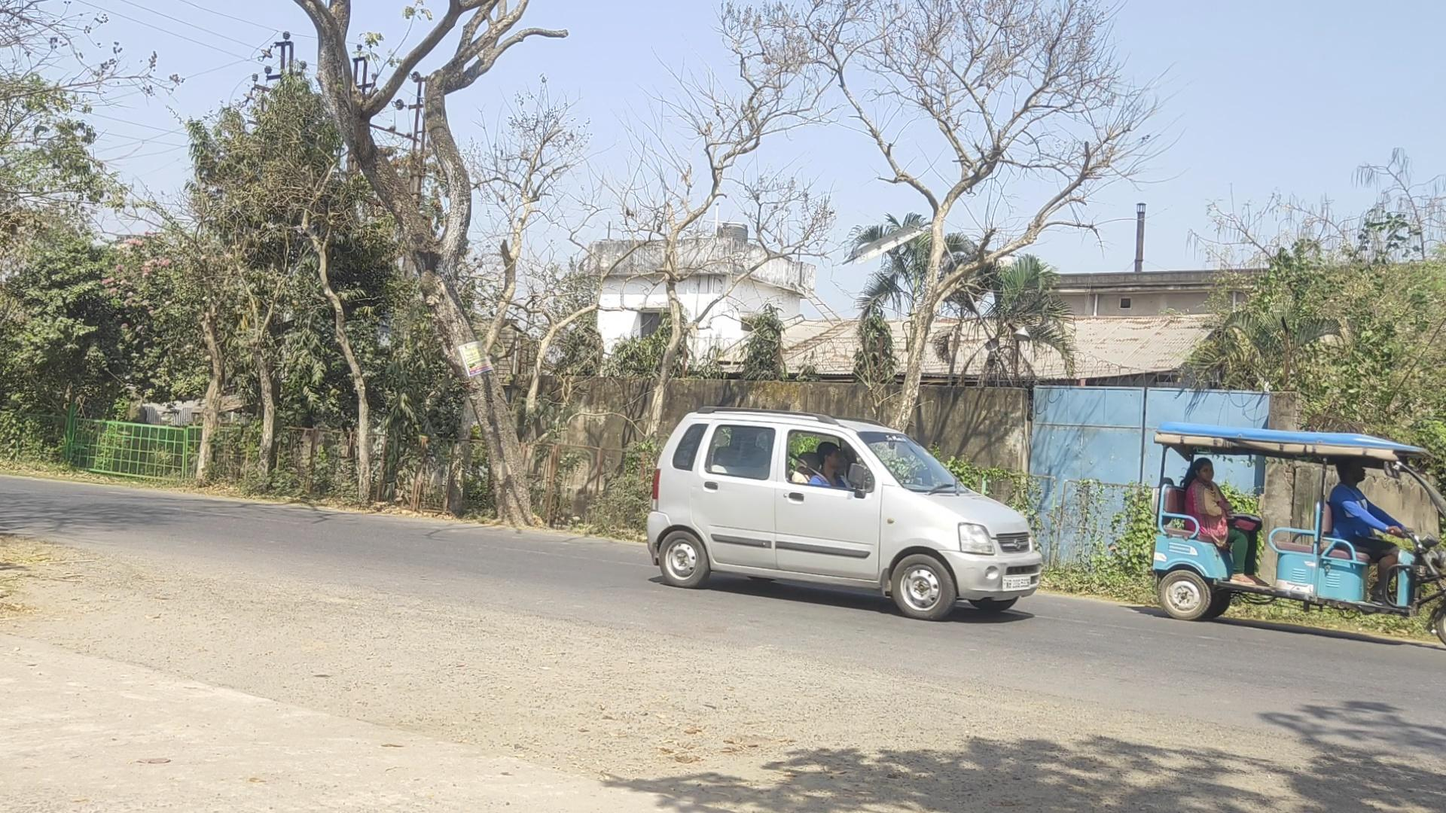Auto: (1149, 422, 1446, 650)
car: (645, 406, 1043, 621)
